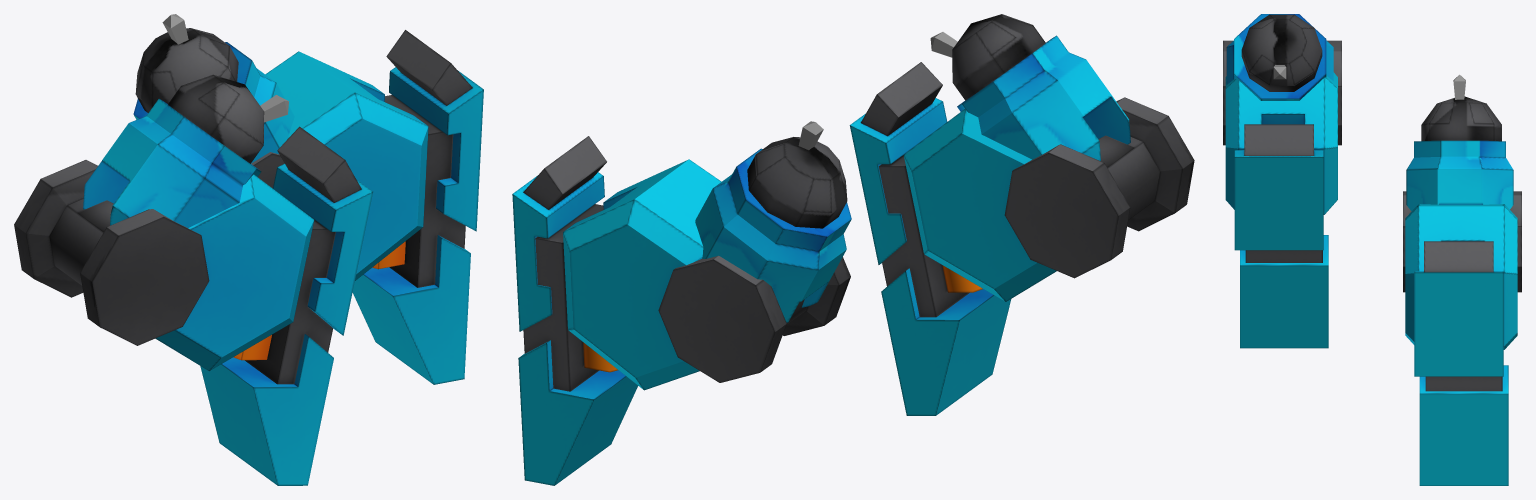
The model's file is Bottom_Running9.obj.
3 renders of one model, left to right at view 1: azimuth 30°, elevation 25°; view 2: azimuth 150°, elevation 25°; view 3: azimuth 270°, elevation 25°, orthographic. The views are drawn at different scales.
Visible parts, largest first — view 1: Object013, Object014, Object011, Object012, Object010, Object009, Bone023, Bone006; view 2: Object013, Object010, Object014, Object011, Object009, Object012; view 3: Object011, Object014, Object009, Object010, Object013, Object012.
Part boxes in pixels (left/top/right/bottom): Object013: left=14, top=160, right=314, bottom=370; Object014: left=200, top=126, right=372, bottom=485; Object011: left=352, top=30, right=483, bottom=384; Object012: left=83, top=74, right=264, bottom=227; Object010: left=251, top=51, right=428, bottom=280; Object009: left=133, top=28, right=294, bottom=163; Bone023: left=260, top=95, right=288, bottom=122; Bone006: left=162, top=14, right=188, bottom=44; Object013: left=903, top=97, right=1194, bottom=301; Object010: left=563, top=159, right=850, bottom=390; Object014: left=849, top=62, right=1011, bottom=415; Object011: left=512, top=136, right=637, bottom=485; Object009: left=695, top=137, right=851, bottom=322; Object012: left=952, top=14, right=1130, bottom=160; Object011: left=1414, top=241, right=1508, bottom=485; Object014: left=1234, top=124, right=1328, bottom=348; Object009: left=1406, top=96, right=1513, bottom=211; Object010: left=1403, top=191, right=1521, bottom=349; Object013: left=1223, top=40, right=1341, bottom=214; Object012: left=1226, top=14, right=1333, bottom=100.
Bounding box in the file's own units: 144 × 120 × 94.84.
